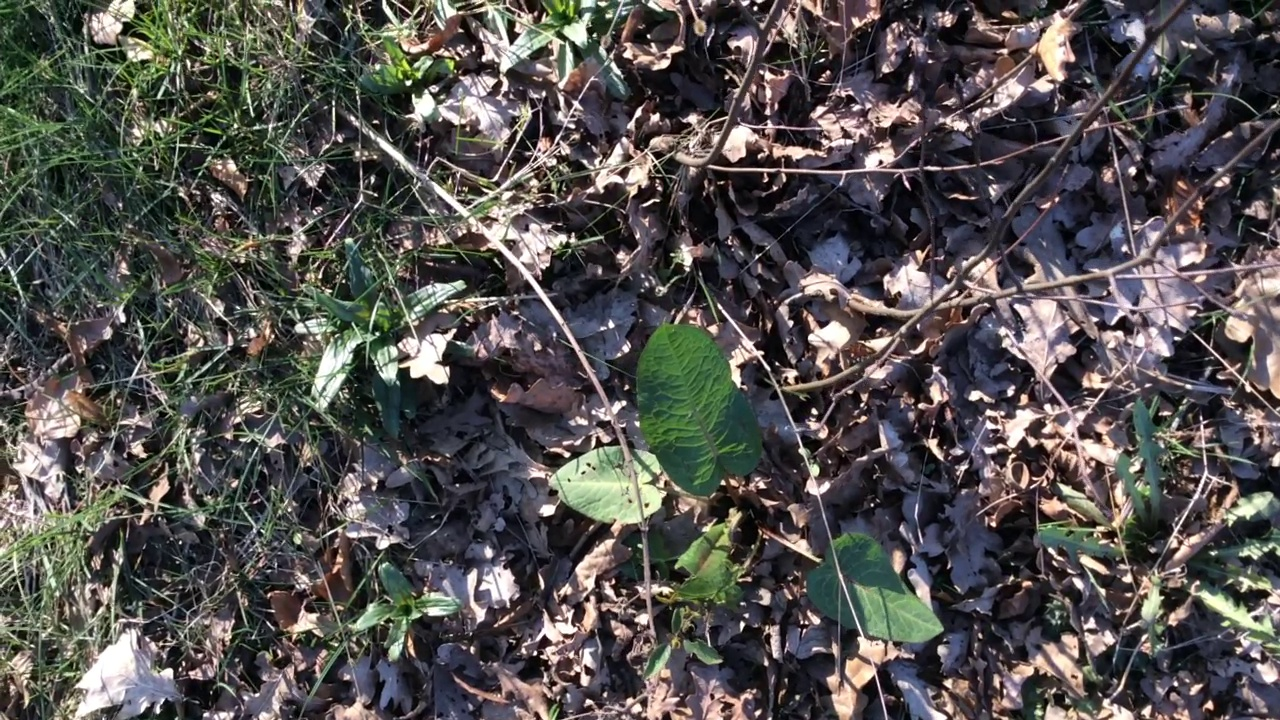rumex: (552, 325, 945, 677)
